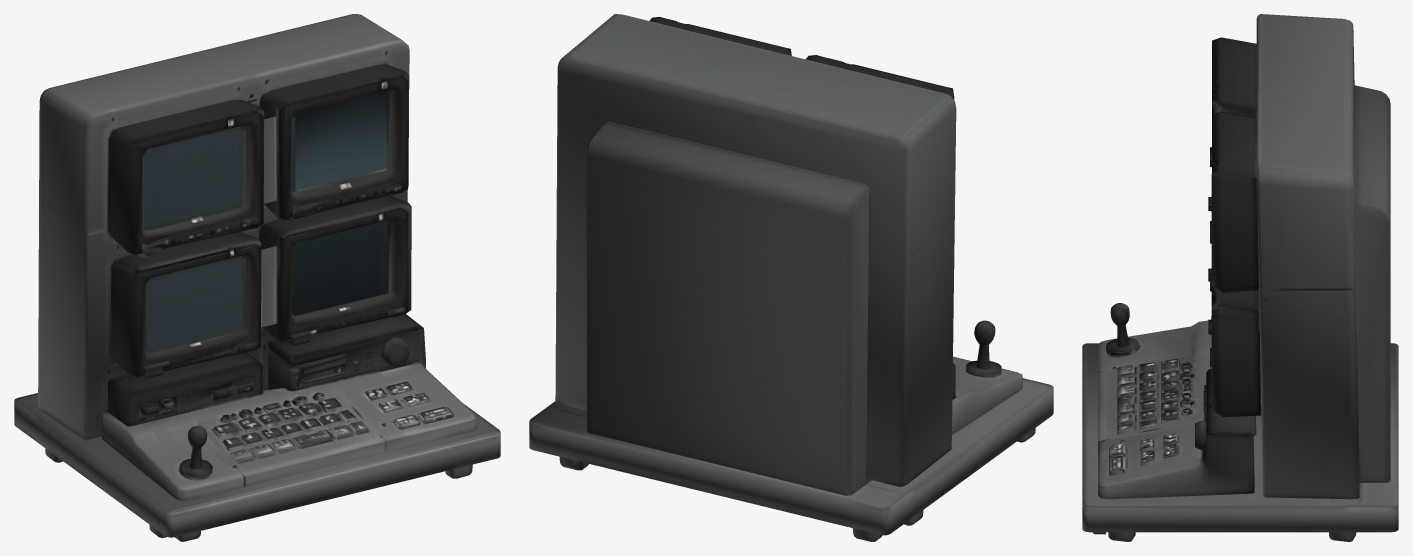
File: Bank_SecurityMonitors.glb
3 renders of one model, left to right at view 1: azimuth 30°, elevation 25°; view 2: azimuth 150°, elevation 25°; view 3: azimuth 270°, elevation 25°, orthographic. The views are drawn at different scales.
Parts seen in each view (by area): view 1: tripo_node_aaf5d492-3213-4f92-a014-60bd5687e939; view 2: tripo_node_aaf5d492-3213-4f92-a014-60bd5687e939; view 3: tripo_node_aaf5d492-3213-4f92-a014-60bd5687e939.
Part boxes in pixels (x1,y1,x2,y2): tripo_node_aaf5d492-3213-4f92-a014-60bd5687e939: (14, 14, 500, 541); tripo_node_aaf5d492-3213-4f92-a014-60bd5687e939: (529, 14, 1053, 541); tripo_node_aaf5d492-3213-4f92-a014-60bd5687e939: (1082, 14, 1398, 541).
Bounding box in the file's own units: 0.9389 × 1 × 0.7636.
1 material, 1 textured.
